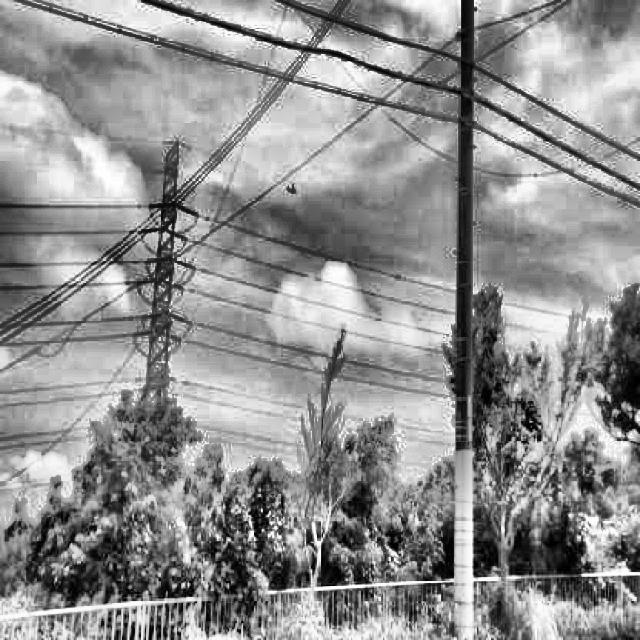V22: (287, 183, 296, 194)
